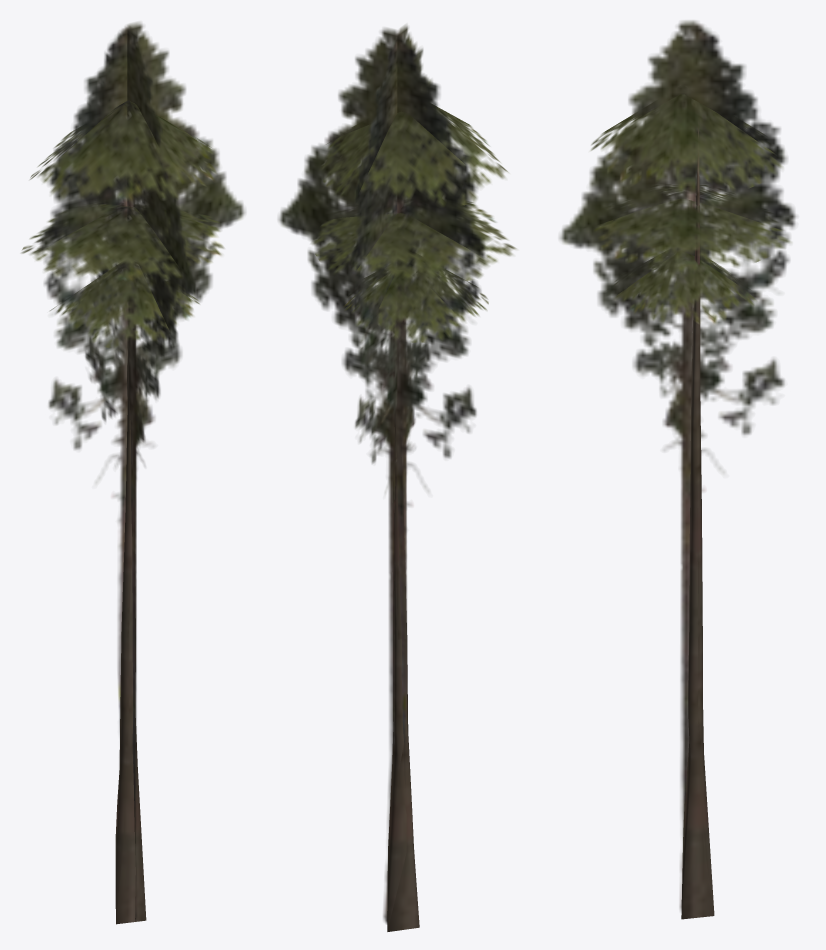
The model's file is distant-tree-06.glb.
3 renders of one model, left to right at view 1: azimuth 30°, elevation 25°; view 2: azimuth 150°, elevation 25°; view 3: azimuth 270°, elevation 25°, orthographic.
Parts seen in each view (by area): view 1: Background_Tree_Atlas.005; view 2: Background_Tree_Atlas.005; view 3: Background_Tree_Atlas.005.
Boxes of the visible parts, x1,y1,x2,y2 form: Background_Tree_Atlas.005: [21, 22, 245, 924]; Background_Tree_Atlas.005: [278, 24, 516, 931]; Background_Tree_Atlas.005: [559, 20, 796, 919].
Bounding box in the file's own units: 887 × 3327 × 855.
Materials: 1 (1 with a texture image).
